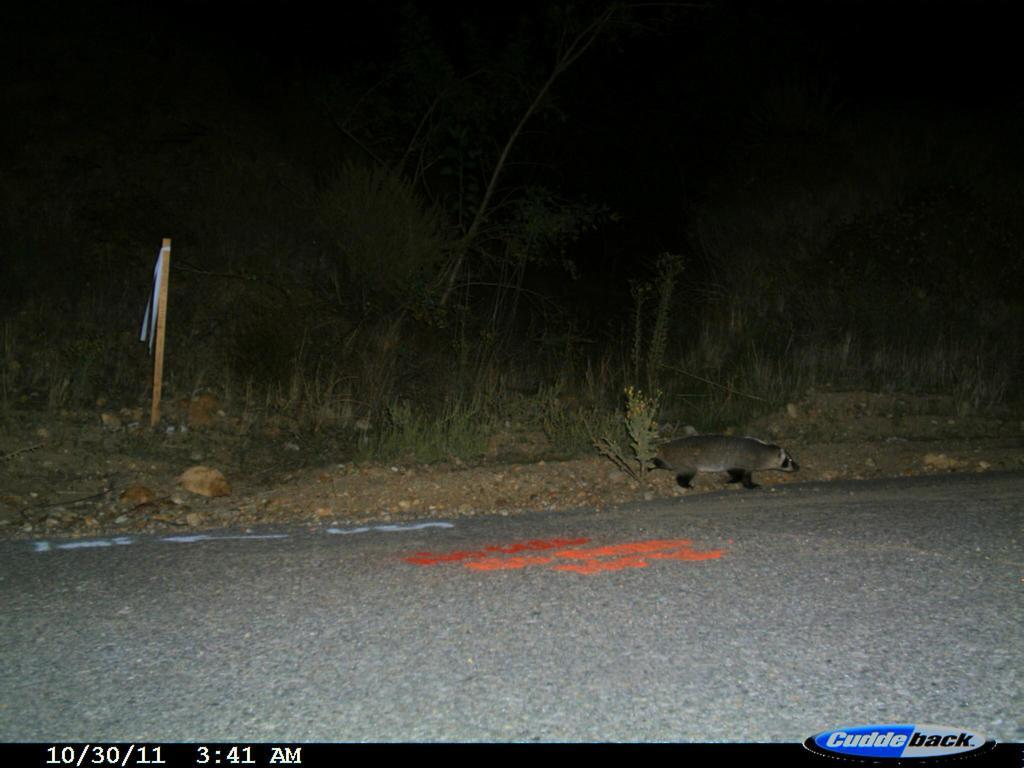badger: (639, 429, 804, 496)
